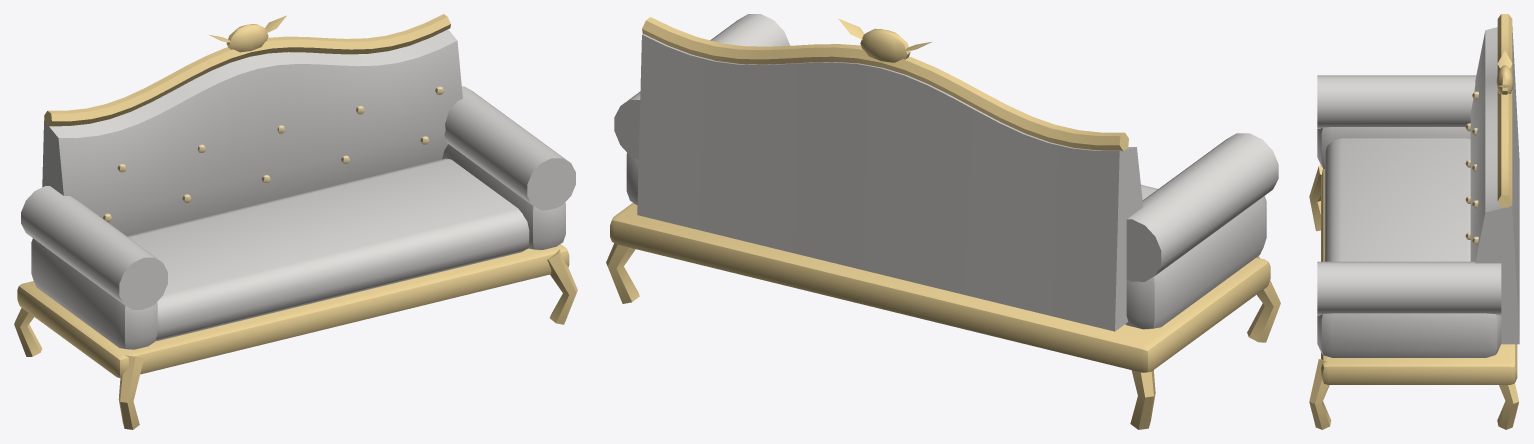
The model's file is sofa-wedding.glb.
3 views of the same model, side by side, from view 1: azimuth 30°, elevation 25°; view 2: azimuth 150°, elevation 25°; view 3: azimuth 270°, elevation 25° (orthographic). The views are drawn at different scales.
Visible parts, largest first — view 1: sofa-wedding; view 2: sofa-wedding; view 3: sofa-wedding.
Part boxes in pixels (<box>): sofa-wedding: <box>14,14,577,429</box>; sofa-wedding: <box>606,14,1280,429</box>; sofa-wedding: <box>1309,14,1519,429</box>.
Bounding box in the file's own units: 2.02 × 1.17 × 0.8581.
